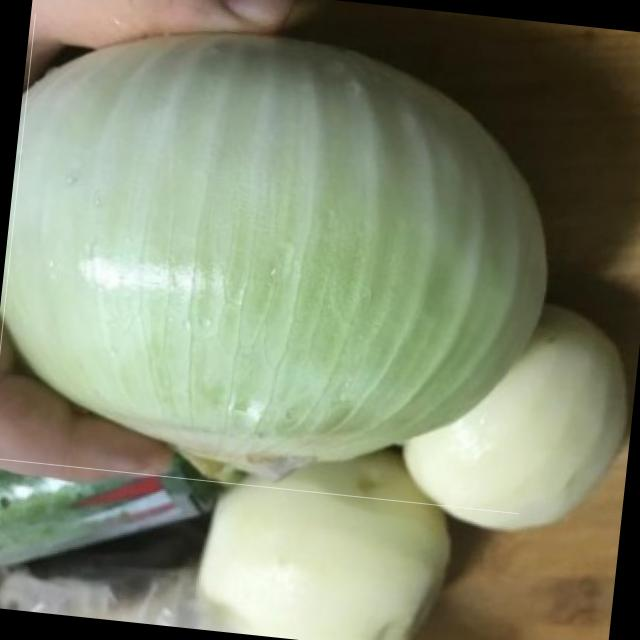Onion: (0, 13, 564, 513)
